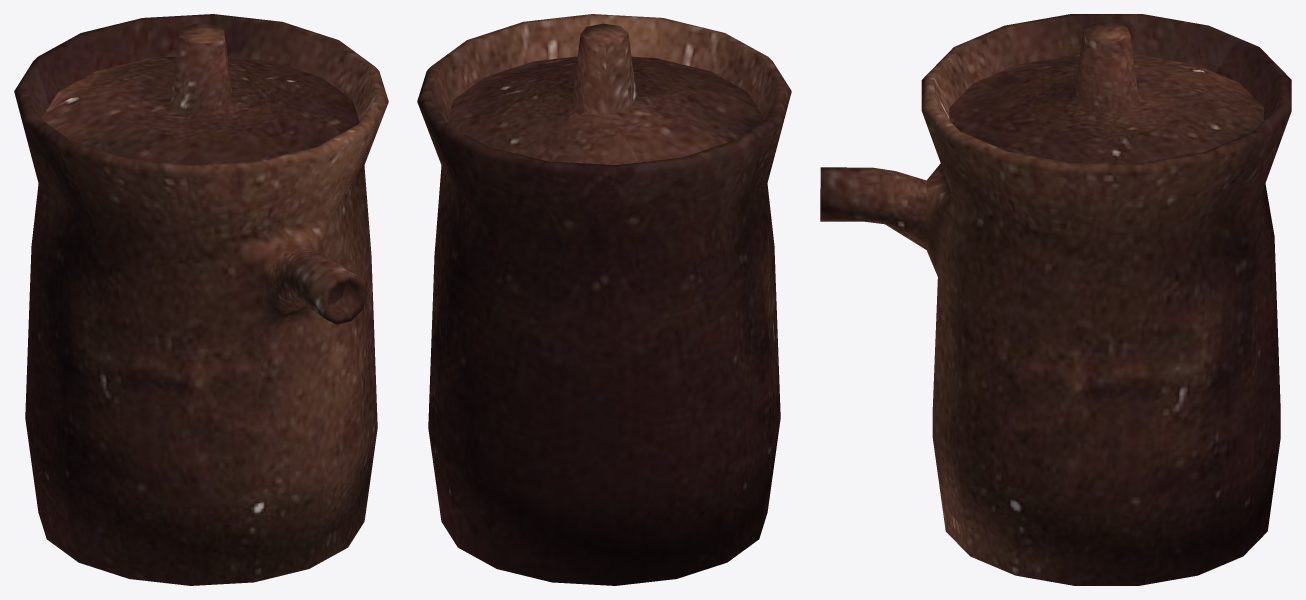
Rendered from soy_sauce_pot.fbx.
3 renders of one model, left to right at view 1: azimuth 30°, elevation 25°; view 2: azimuth 150°, elevation 25°; view 3: azimuth 270°, elevation 25°, orthographic.
Parts seen in each view (by area): view 1: soy_sauce_pot; view 2: soy_sauce_pot; view 3: soy_sauce_pot.
Boxes of the visible parts, x1=… form: soy_sauce_pot: x1=14, y1=14, x2=388, y2=585; soy_sauce_pot: x1=417, y1=14, x2=791, y2=585; soy_sauce_pot: x1=820, y1=14, x2=1291, y2=585.
Bounding box in the file's own units: 5.21 × 7.55 × 6.64.
